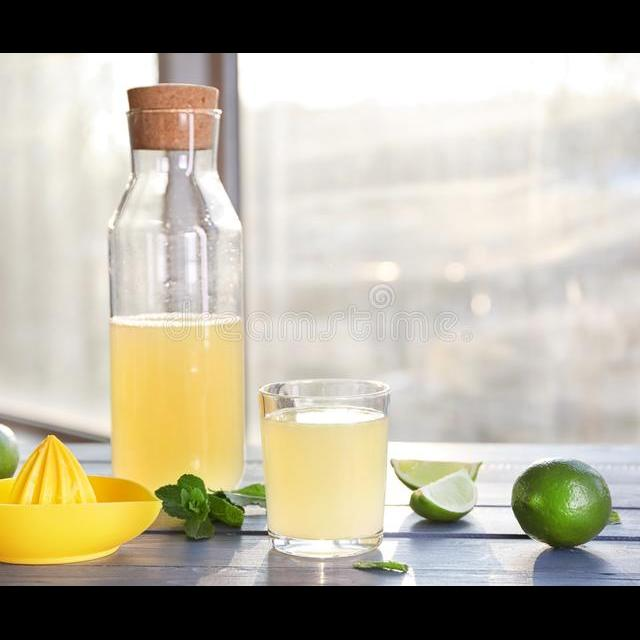lime: (507, 452, 617, 559), (0, 410, 24, 503)
